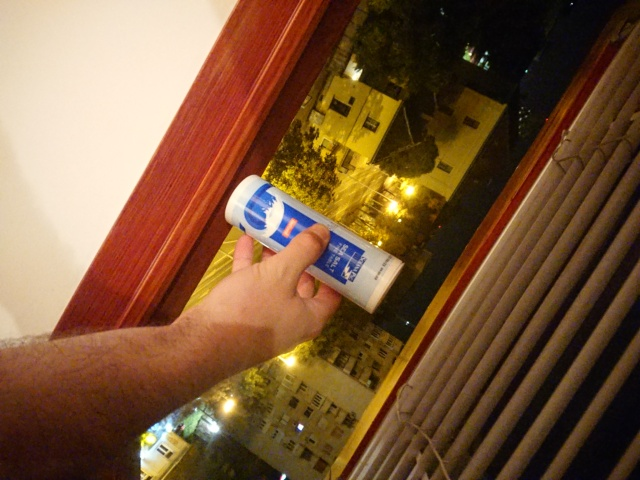Solana Pag Fine Sea Salt 250g: (220, 171, 409, 319)
